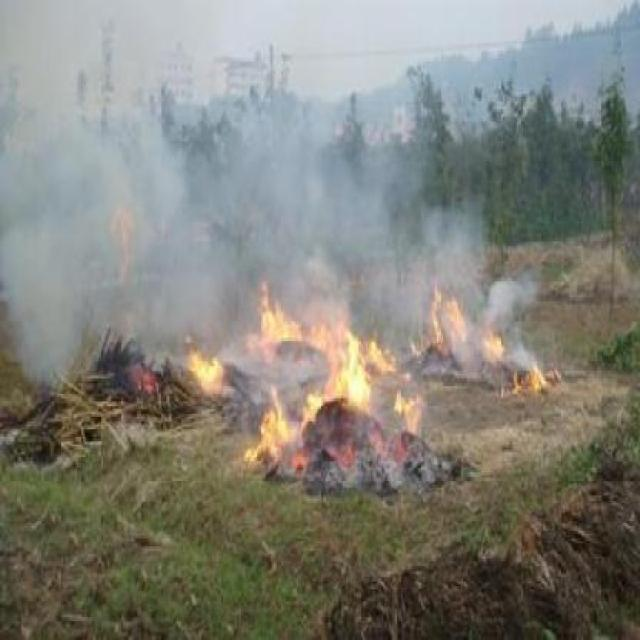Fire: (172, 274, 554, 488)
